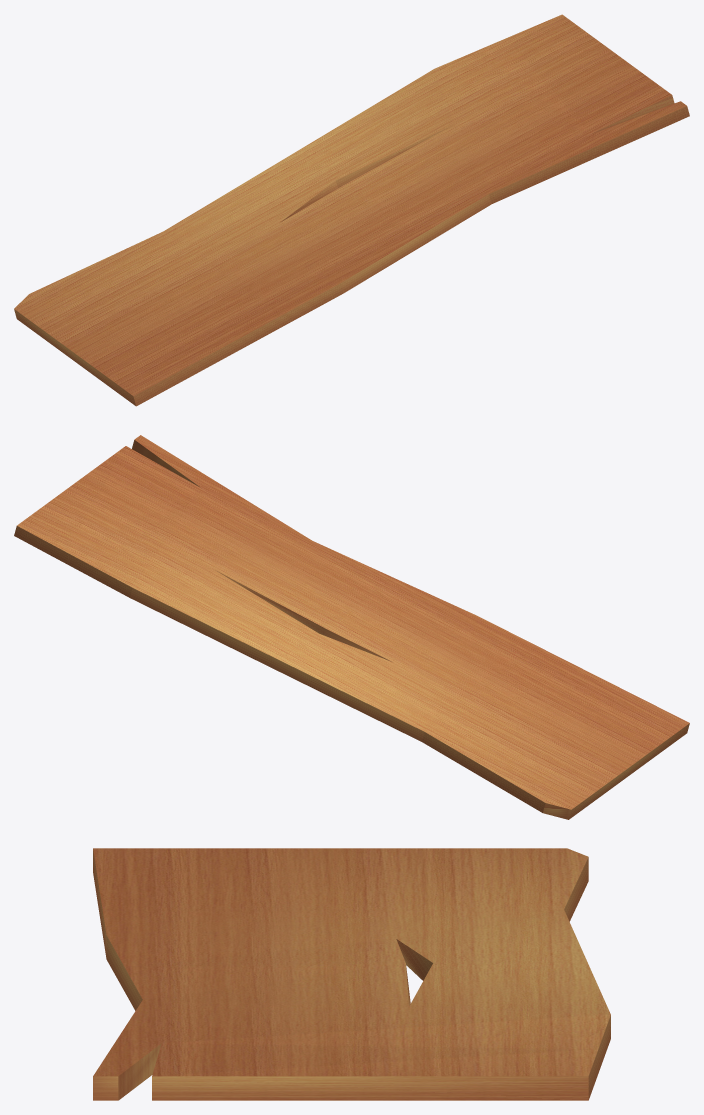
Rendered from Prop_Big_Long_Plank.FBX.
The picture shows the model from 3 angles, top to bottom: view 1: azimuth 30°, elevation 25°; view 2: azimuth 150°, elevation 25°; view 3: azimuth 270°, elevation 25°; orthographic projection. The views are drawn at different scales.
Parts seen in each view (by area): view 1: Box001; view 2: Box001; view 3: Box001.
Part boxes in pixels (x1,y1,x2,y2): Box001: (14,14,689,406); Box001: (14,435,689,819); Box001: (93,848,610,1100).
Bounding box in the file's own units: 127 × 36.12 × 51.4.
